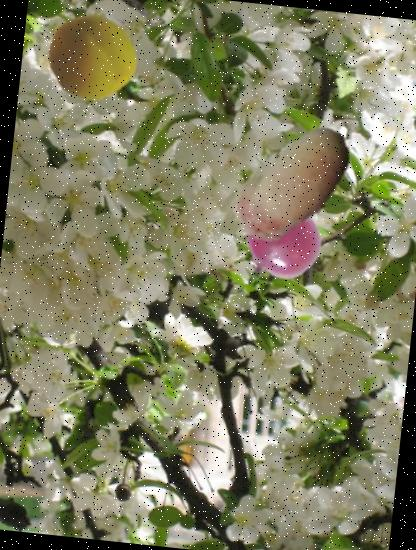Peach: (220, 110, 371, 260), (42, 8, 140, 106)
Redcurrant: (240, 202, 326, 288)
